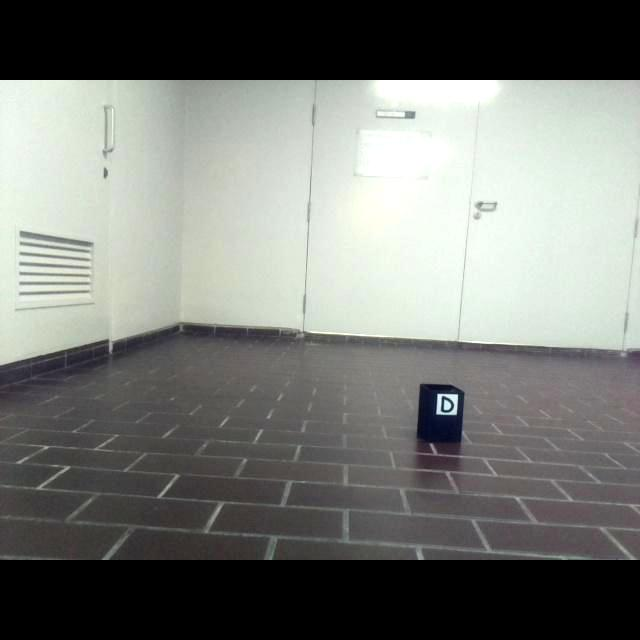D: (440, 396, 455, 414)
